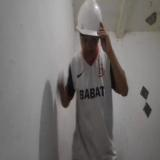Helmet: (76, 0, 104, 38)
